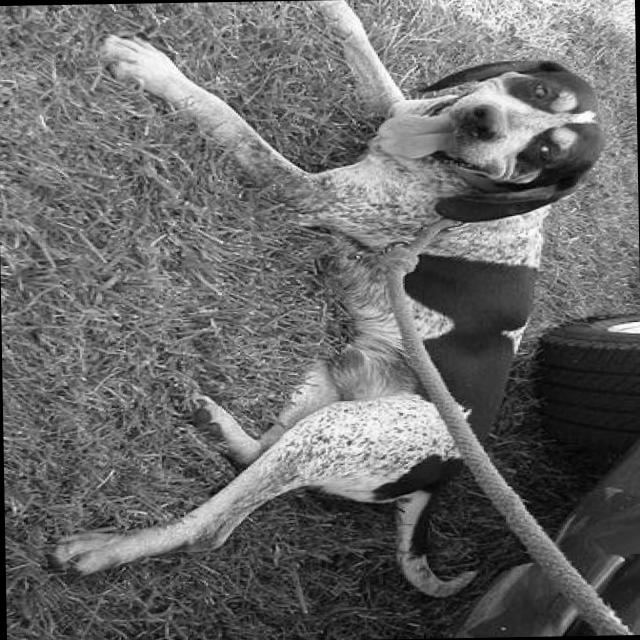laying down: (32, 0, 626, 613)
